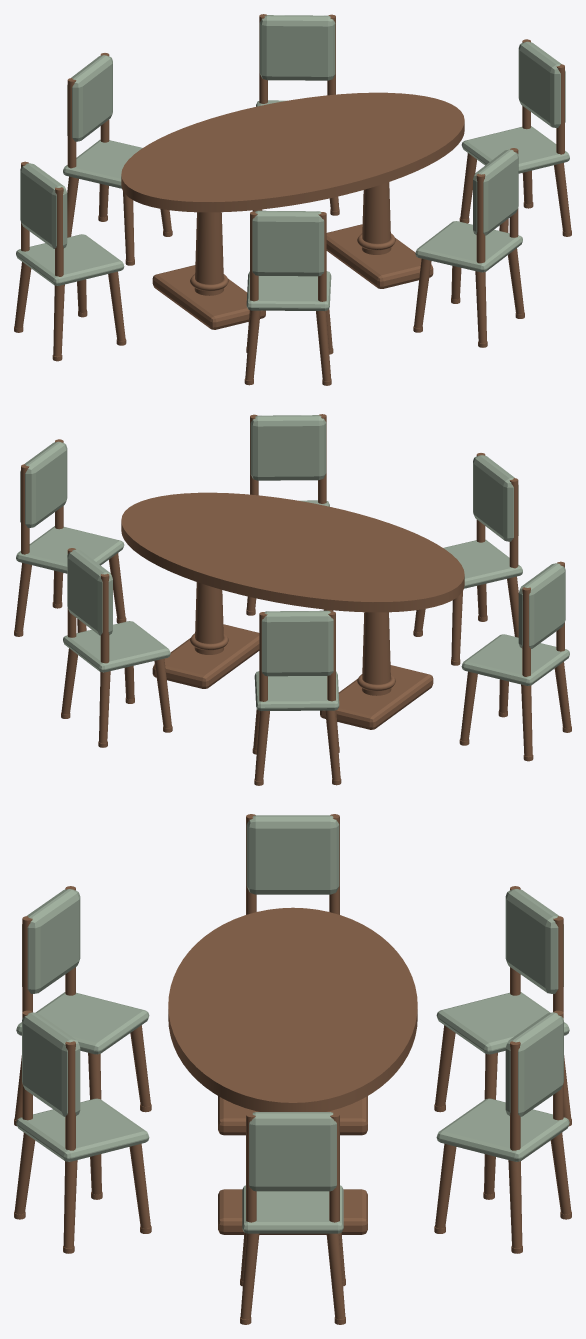
File: kitchen_set_oval_walnut.glb
3 renders of one model, top to bottom at view 1: azimuth 30°, elevation 25°; view 2: azimuth 150°, elevation 25°; view 3: azimuth 270°, elevation 25°, orthographic. The views are drawn at different scales.
Parts seen in each view (by area): view 1: Oval walnut tabletop, Walnut upholstered chair 4 upholstered back pad, Walnut upholstered chair 1 upholstered back pad, Oval table pedestal foot.001, Oval table pedestal foot, Walnut upholstered chair 2 seat, Walnut upholstered chair 5 seat, Walnut upholstered chair 6 upholstered back pad, Walnut upholstered chair 3 upholstered back pad, Walnut upholstered chair 5 upholstered back pad, Walnut upholstered chair 2 upholstered back pad, Walnut upholstered chair 6 seat (+20 smaller); view 2: Oval walnut tabletop, Walnut upholstered chair 2 upholstered back pad, Walnut upholstered chair 3 upholstered back pad, Oval table pedestal foot.001, Oval table pedestal foot, Walnut upholstered chair 4 seat, Walnut upholstered chair 5 seat, Walnut upholstered chair 6 upholstered back pad, Walnut upholstered chair 1 upholstered back pad, Walnut upholstered chair 5 upholstered back pad, Walnut upholstered chair 4 upholstered back pad, Walnut upholstered chair 6 seat (+20 smaller); view 3: Oval walnut tabletop, Walnut upholstered chair 5 upholstered back pad, Walnut upholstered chair 6 upholstered back pad, Walnut upholstered chair 2 seat, Walnut upholstered chair 4 seat, Walnut upholstered chair 1 upholstered back pad, Walnut upholstered chair 3 upholstered back pad, Walnut upholstered chair 2 upholstered back pad, Walnut upholstered chair 4 upholstered back pad, Walnut upholstered chair 1 seat, Walnut upholstered chair 3 seat, Walnut upholstered chair 6 seat (+18 smaller).
Boxes of the visible parts, left/top/right/bottom form: Oval walnut tabletop: left=121, top=92, right=464, bottom=212; Walnut upholstered chair 4 upholstered back pad: left=259, top=15, right=335, bottom=80; Walnut upholstered chair 1 upholstered back pad: left=252, top=210, right=324, bottom=276; Oval table pedestal foot.001: left=326, top=224, right=433, bottom=288; Oval table pedestal foot: left=152, top=265, right=265, bottom=329; Walnut upholstered chair 2 seat: left=415, top=221, right=522, bottom=272; Walnut upholstered chair 5 seat: left=16, top=234, right=124, bottom=285; Walnut upholstered chair 6 upholstered back pad: left=518, top=41, right=565, bottom=127; Walnut upholstered chair 3 upholstered back pad: left=67, top=55, right=112, bottom=141; Walnut upholstered chair 5 upholstered back pad: left=20, top=163, right=67, bottom=248; Walnut upholstered chair 2 upholstered back pad: left=473, top=149, right=518, bottom=235; Walnut upholstered chair 6 seat: left=461, top=126, right=569, bottom=173; Oval walnut tabletop: left=121, top=492, right=464, bottom=612; Walnut upholstered chair 2 upholstered back pad: left=250, top=415, right=326, bottom=480; Walnut upholstered chair 3 upholstered back pad: left=261, top=610, right=333, bottom=676; Oval table pedestal foot.001: left=152, top=624, right=259, bottom=688; Oval table pedestal foot: left=320, top=665, right=433, bottom=729; Walnut upholstered chair 4 seat: left=63, top=621, right=170, bottom=672; Walnut upholstered chair 5 seat: left=461, top=634, right=569, bottom=685; Walnut upholstered chair 6 upholstered back pad: left=20, top=441, right=67, bottom=527; Walnut upholstered chair 1 upholstered back pad: left=473, top=455, right=518, bottom=541; Walnut upholstered chair 5 upholstered back pad: left=518, top=563, right=565, bottom=648; Walnut upholstered chair 4 upholstered back pad: left=67, top=549, right=112, bottom=635; Walnut upholstered chair 6 seat: left=16, top=526, right=124, bottom=573; Oval walnut tabletop: left=168, top=907, right=417, bottom=1111; Walnut upholstered chair 5 upholstered back pad: left=246, top=815, right=339, bottom=894; Walnut upholstered chair 6 upholstered back pad: left=249, top=1112, right=336, bottom=1191; Walnut upholstered chair 2 seat: left=16, top=1098, right=149, bottom=1161; Walnut upholstered chair 4 seat: left=436, top=1098, right=569, bottom=1161; Walnut upholstered chair 1 upholstered back pad: left=22, top=889, right=80, bottom=993; Walnut upholstered chair 3 upholstered back pad: left=505, top=889, right=563, bottom=993; Walnut upholstered chair 2 upholstered back pad: left=22, top=1012, right=80, bottom=1116; Walnut upholstered chair 4 upholstered back pad: left=505, top=1012, right=563, bottom=1116; Walnut upholstered chair 1 seat: left=16, top=992, right=149, bottom=1054; Walnut upholstered chair 3 seat: left=436, top=992, right=569, bottom=1054; Walnut upholstered chair 6 seat: left=242, top=1185, right=343, bottom=1233.
Bounding box in the file's own units: 3.16 × 0.985 × 2.42.
